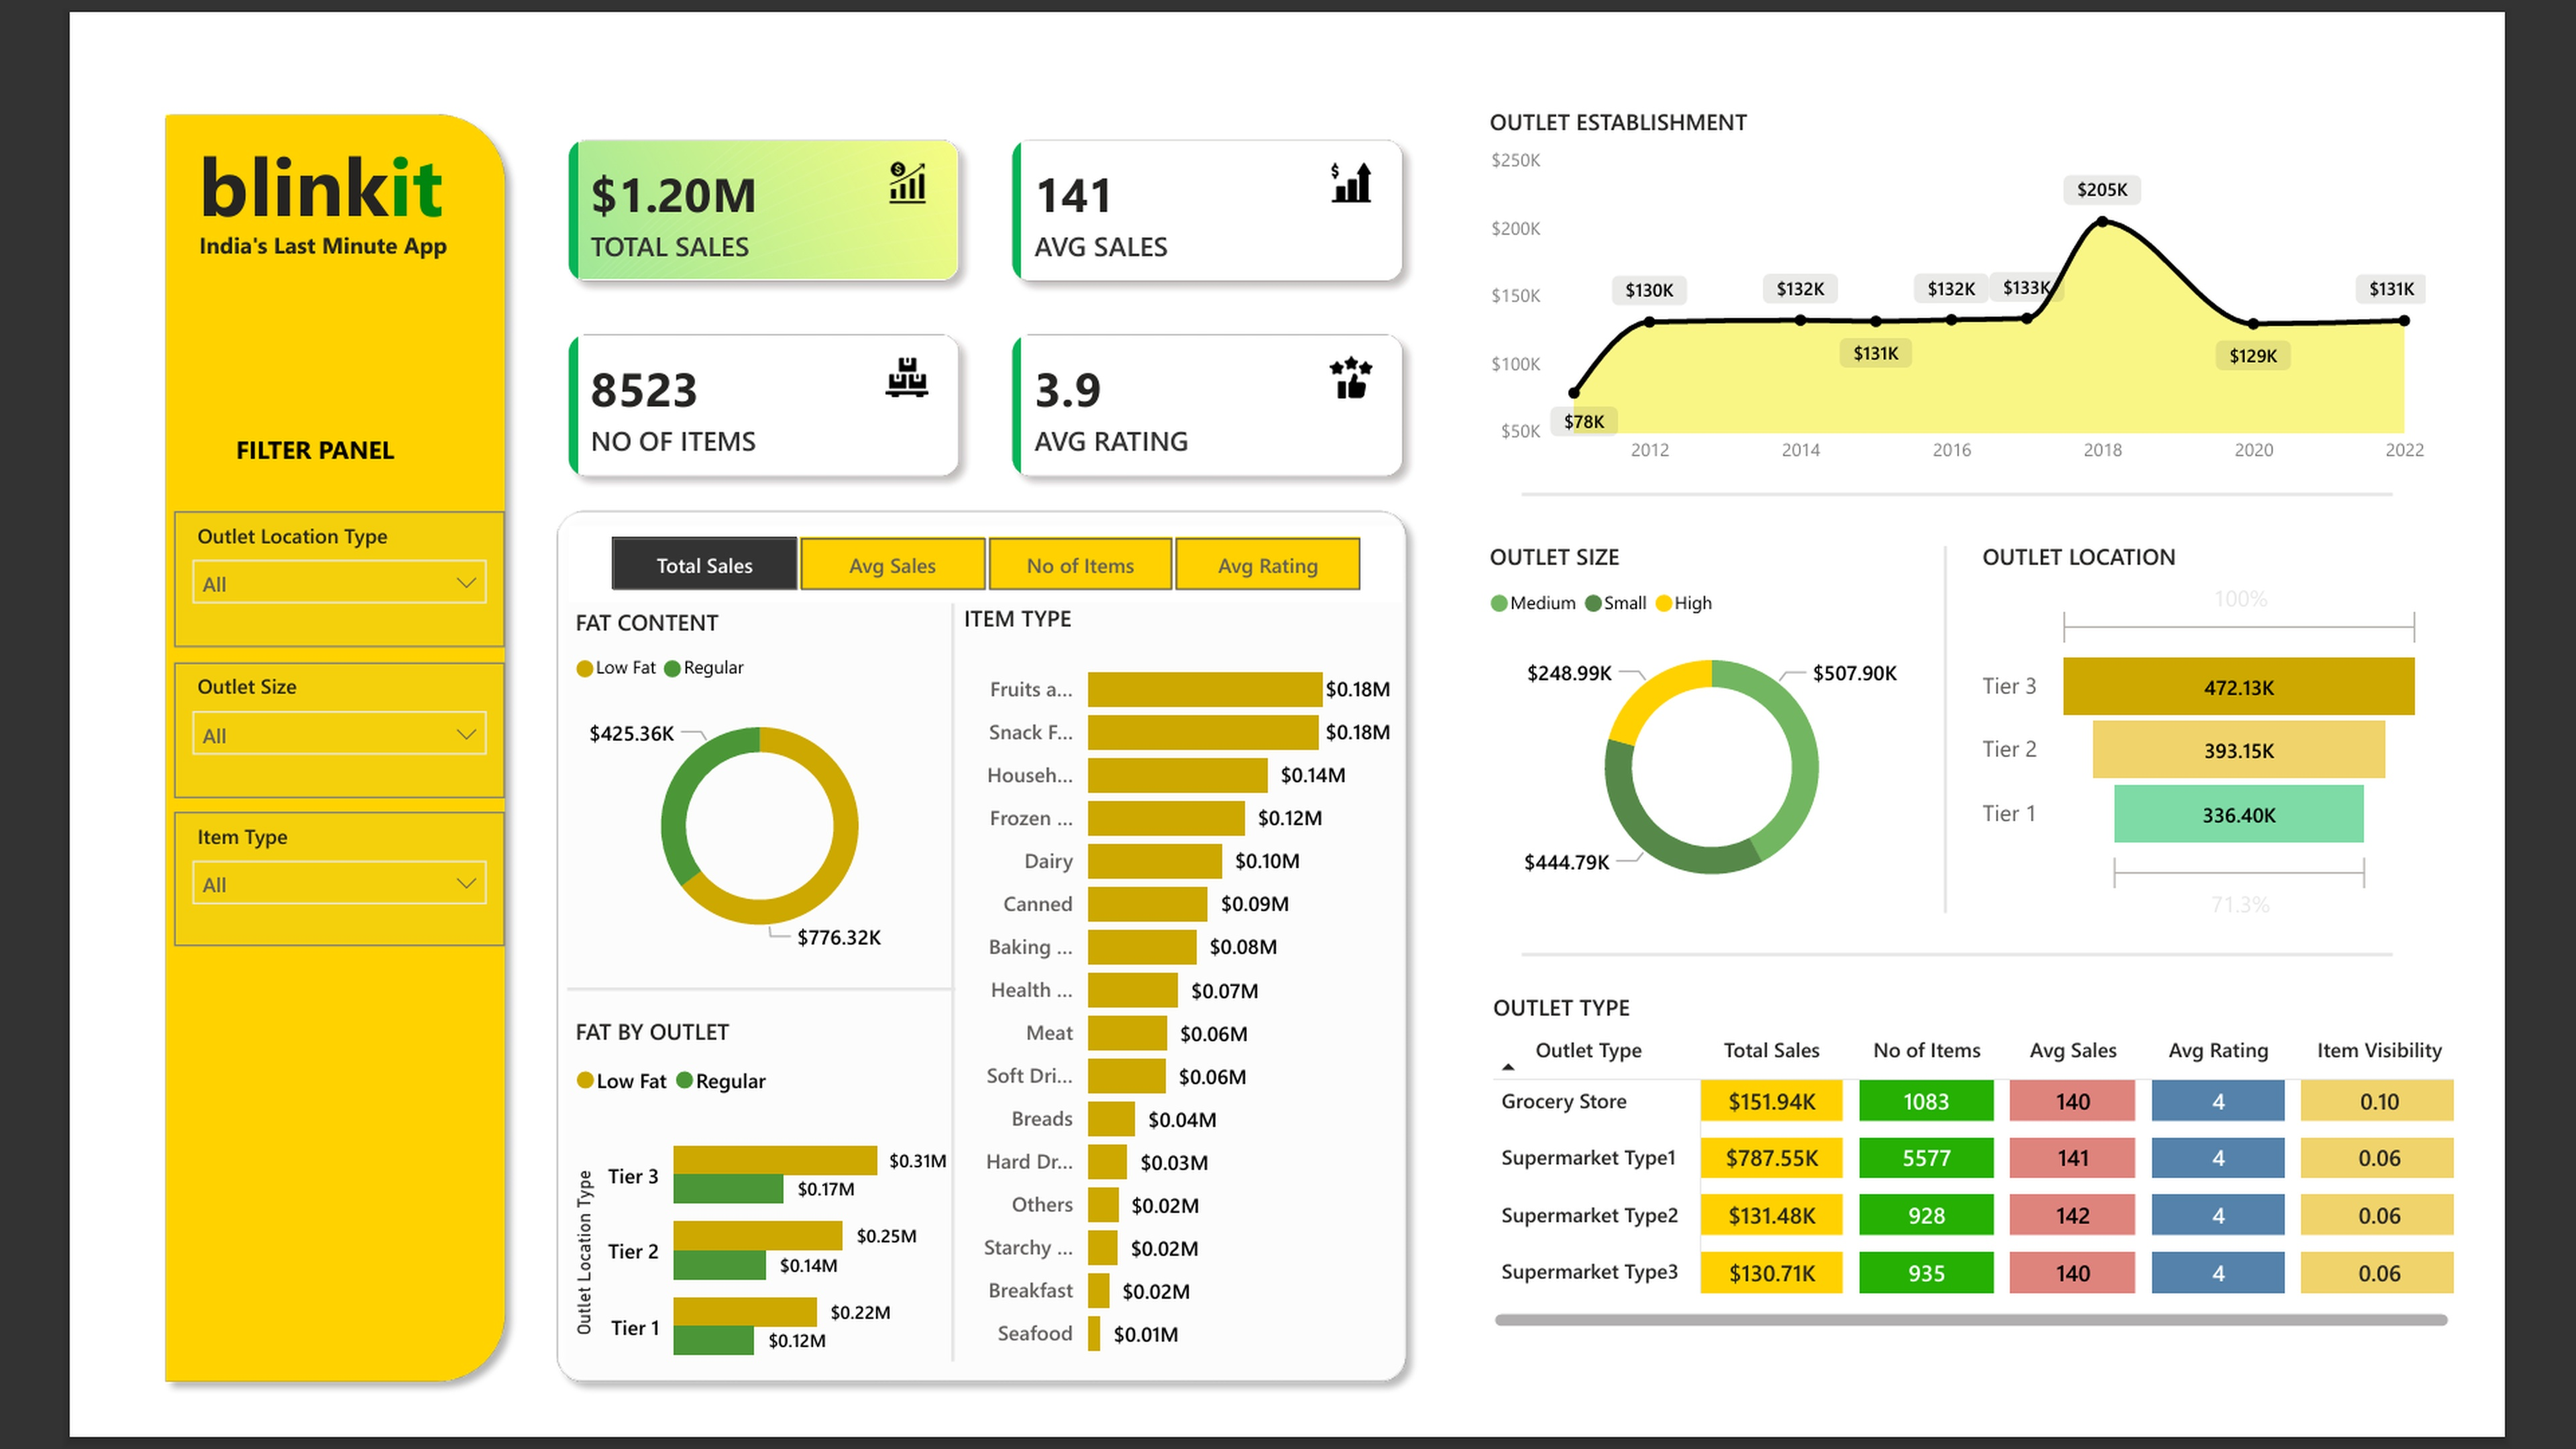

What the dashboard file says about the page in this screenshot:
{"tool":"powerbi","page":{"name":"Page 1","canvas":[1400,800],"ordinal":0},"visuals":[{"type":"shape","box":[24.1,28.2,219.8,772.1],"z":0},{"type":"textbox","box":[48.3,40.2,163.5,77.7],"z":1000},{"type":"textbox","box":[48.3,100.5,167.6,61.7],"z":2000},{"type":"cardVisual","fields":{"Data":["BlinkIT Grocery Data.Total Sales","BlinkIT Grocery Data.Avg Sales","BlinkIT Grocery Data.No of Items","BlinkIT Grocery Data.Avg Rating"]},"box":[244,22.8,555,258.7],"z":3000},{"type":"shape","box":[257.4,264.1,522.8,536.2],"z":4000},{"type":"donutChart","title":"FAT CONTENT","fields":{"Y":["BlinkIT Grocery Data.Total Sales"],"Category":["BlinkIT Grocery Data.Item Fat Content"]},"box":[272.1,329.8,229.2,217.2],"z":5000},{"type":"slicer","fields":{"Values":["Metrics.Metrics"]},"box":[273.5,281.5,494.6,45.6],"z":6000},{"type":"clusteredBarChart","title":" FAT BY OUTLET","fields":{"Y":["BlinkIT Grocery Data.Total Sales"],"Category":["BlinkIT Grocery Data.Outlet Location Type"],"Series":["BlinkIT Grocery Data.Item Fat Content"]},"box":[272.1,573.7,230.6,226.5],"z":7000},{"type":"shape","box":[483.9,328.4,34.9,450.4],"z":8000},{"type":"barChart","title":"ITEM TYPE","fields":{"Y":["BlinkIT Grocery Data.Total Sales"],"Category":["BlinkIT Grocery Data.Item Type"]},"box":[502.7,328.4,264.1,459.8],"z":9000},{"type":"shape","box":[272.1,532.2,230.6,50.9],"z":10000},{"type":"lineChart","title":"OUTLET ESTABLISHMENT","fields":{"Y":["BlinkIT Grocery Data.Total Sales"],"Category":["BlinkIT Grocery Data.Outlet Establishment Year"]},"box":[816.4,32.2,565.7,221.2],"z":11000},{"type":"shape","box":[840.5,253.4,517.4,20.1],"z":12000},{"type":"donutChart","title":"OUTLET SIZE","fields":{"Y":["BlinkIT Grocery Data.Total Sales"],"Category":["BlinkIT Grocery Data.Outlet Size"]},"box":[816.4,290.9,273.5,225.2],"z":13000},{"type":"shape","box":[1055,293.6,73.7,218.5],"z":14000},{"type":"funnel","title":"OUTLET LOCATION","fields":{"Category":["BlinkIT Grocery Data.Outlet Location Type"],"Y":["Sum(BlinkIT Grocery Data.Sales)"]},"box":[1108.6,290.9,272.1,230.6],"z":15000},{"type":"shape","box":[840.5,526.8,517.4,20.1],"z":16000},{"type":"pivotTable","title":"OUTLET TYPE","fields":{"Values":["BlinkIT Grocery Data.Total Sales","BlinkIT Grocery Data.No of Items","BlinkIT Grocery Data.Avg Sales","BlinkIT Grocery Data.Avg Rating","Avg(BlinkIT Grocery Data.Item Visibility)"],"Rows":["BlinkIT Grocery Data.Outlet Type"]},"box":[817.7,559,581.8,205.1],"z":17000},{"type":"slicer","fields":{"Values":["BlinkIT Grocery Data.Outlet Location Type"]},"box":[37.5,273.5,197.1,80.4],"z":17001},{"type":"slicer","fields":{"Values":["BlinkIT Grocery Data.Outlet Size"]},"box":[37.5,363.3,197.1,80.4],"z":17002},{"type":"slicer","fields":{"Values":["BlinkIT Grocery Data.Item Type"]},"box":[37.5,451.7,197.1,80.4],"z":17003},{"type":"textbox","box":[69.7,221.2,112.6,32.2],"z":17004}]}

Visuals, with their boxes in screenshot pixels (x1, y1, x2, y2), scaled from the page's 1400x800 canvas onto the 2576x1449 screenshot:
shape: <region>44, 51, 449, 1448</region>
textbox: <region>89, 73, 390, 213</region>
textbox: <region>89, 182, 397, 294</region>
cardVisual - BlinkIT Grocery Data.Total Sales x BlinkIT Grocery Data.Avg Sales: <region>449, 42, 1470, 510</region>
shape: <region>474, 478, 1436, 1448</region>
"FAT CONTENT" donutChart: <region>500, 597, 922, 991</region>
slicer - Metrics.Metrics: <region>503, 510, 1413, 592</region>
" FAT BY OUTLET" clusteredBarChart: <region>500, 1039, 925, 1448</region>
shape: <region>890, 595, 955, 1411</region>
"ITEM TYPE" barChart: <region>925, 595, 1411, 1428</region>
shape: <region>500, 964, 925, 1056</region>
"OUTLET ESTABLISHMENT" lineChart: <region>1502, 58, 2543, 459</region>
shape: <region>1546, 459, 2499, 495</region>
"OUTLET SIZE" donutChart: <region>1502, 527, 2005, 934</region>
shape: <region>1941, 532, 2077, 928</region>
"OUTLET LOCATION" funnel: <region>2040, 527, 2540, 945</region>
shape: <region>1546, 954, 2499, 991</region>
"OUTLET TYPE" pivotTable: <region>1505, 1012, 2575, 1384</region>
slicer - BlinkIT Grocery Data.Outlet Location Type: <region>69, 495, 431, 641</region>
slicer - BlinkIT Grocery Data.Outlet Size: <region>69, 658, 431, 804</region>
slicer - BlinkIT Grocery Data.Item Type: <region>69, 818, 431, 964</region>
textbox: <region>128, 400, 335, 459</region>
